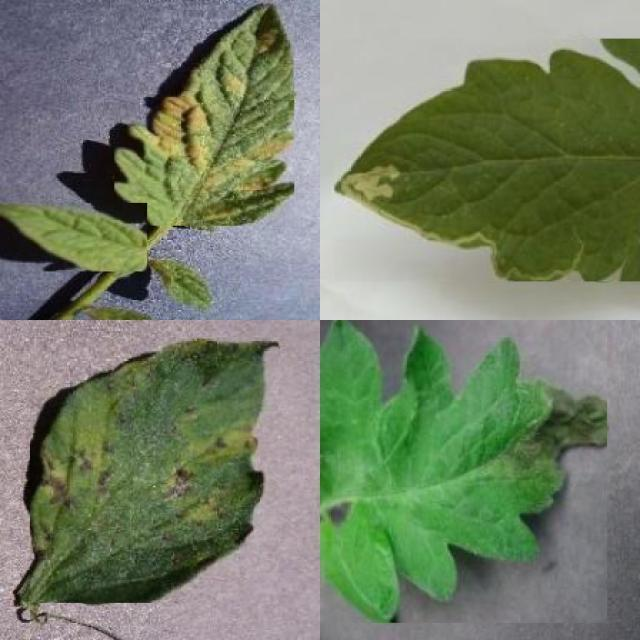Healthy: (0, 202, 147, 272)
Late Blight: (320, 320, 607, 623)
Leaf Miner: (334, 39, 640, 282)
Leaf Mold: (115, 3, 295, 226)
Septoria: (31, 337, 279, 603)
